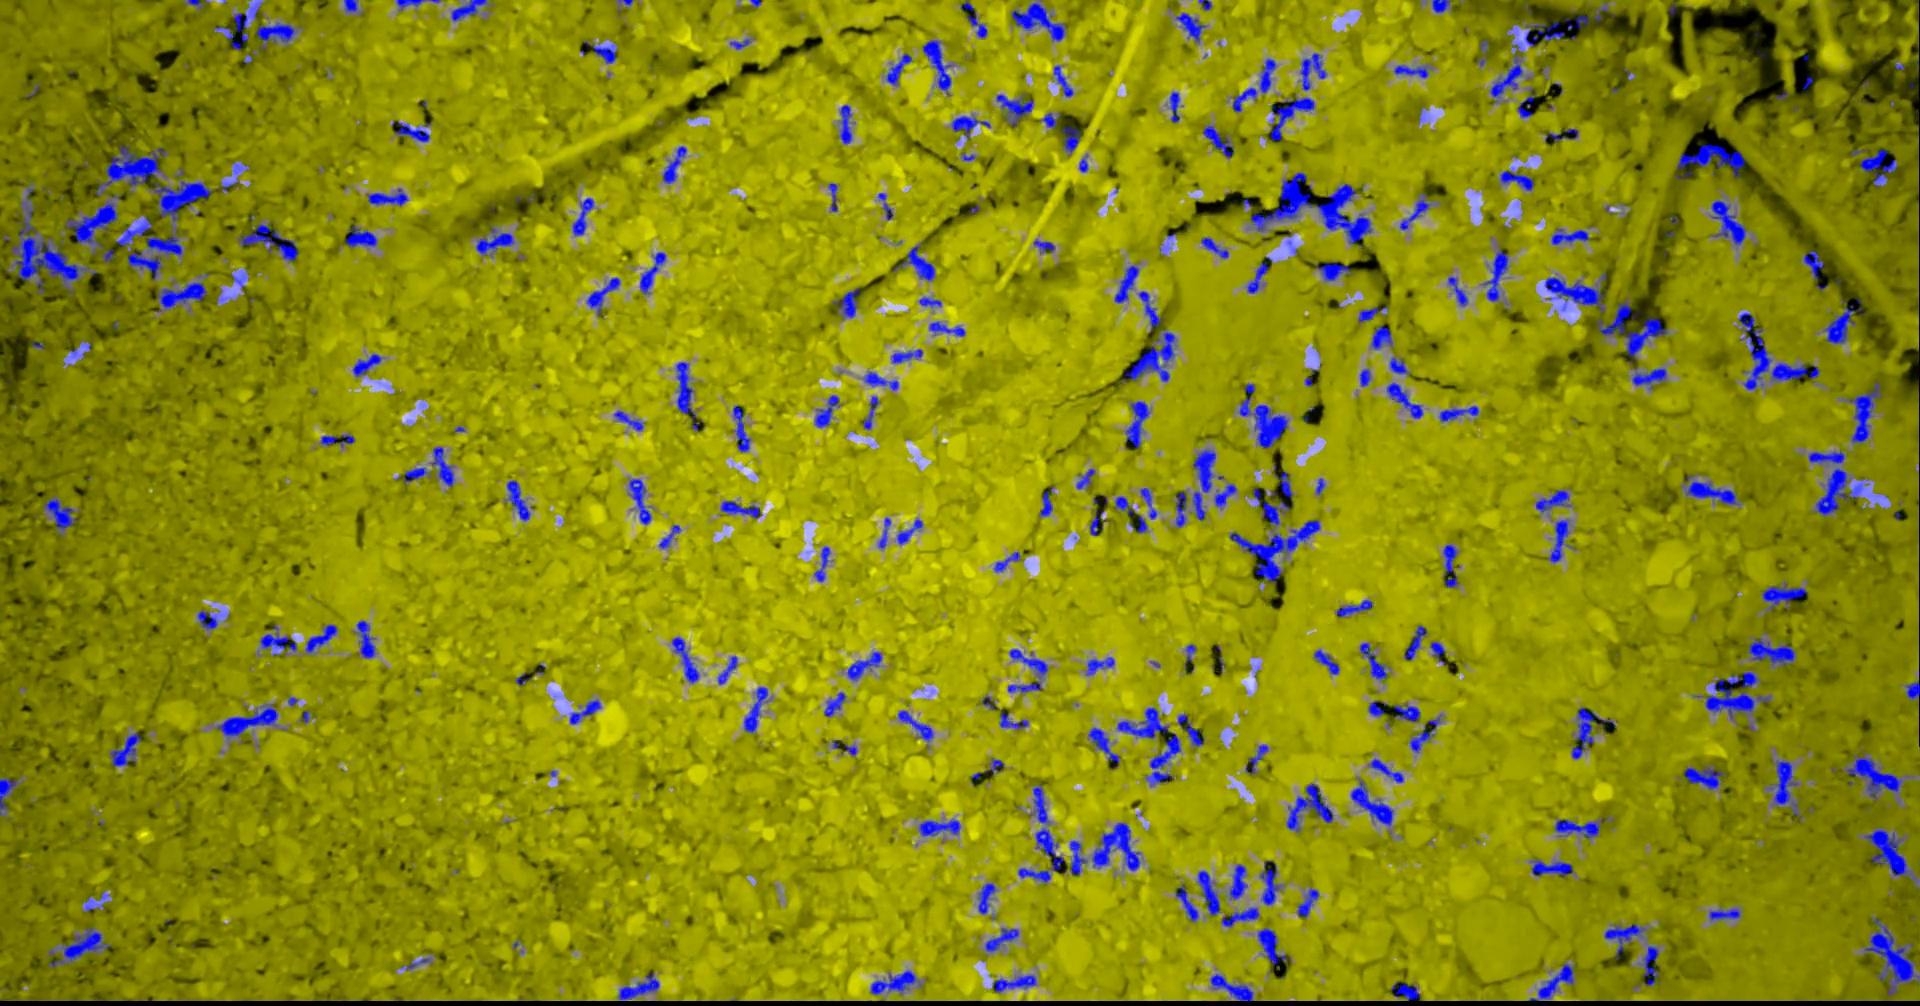ant: (1123, 329, 1177, 382), (130, 227, 184, 279), (1865, 829, 1917, 880), (1848, 754, 1903, 799), (50, 927, 112, 967), (66, 201, 119, 246), (1093, 822, 1142, 870), (1288, 782, 1335, 831), (1677, 144, 1746, 177), (1234, 58, 1277, 111), (1545, 277, 1608, 312), (1573, 708, 1617, 758), (218, 702, 279, 738), (241, 224, 300, 260), (1850, 381, 1882, 443), (1352, 780, 1396, 826), (1013, 3, 1067, 39), (677, 361, 705, 431), (1271, 97, 1316, 140), (1147, 732, 1182, 785), (1010, 648, 1049, 692), (1770, 760, 1801, 815), (1826, 298, 1864, 343), (1530, 963, 1575, 1001), (1712, 199, 1749, 245), (1685, 474, 1740, 504), (1194, 448, 1217, 520), (1492, 51, 1524, 102), (1117, 708, 1170, 738), (924, 39, 952, 91), (895, 244, 936, 279), (1606, 923, 1647, 959), (1749, 636, 1797, 666), (1862, 149, 1898, 185), (215, 11, 250, 50), (1255, 488, 1290, 525), (1258, 927, 1291, 967), (157, 282, 208, 307), (1090, 727, 1121, 767), (673, 636, 701, 682), (1388, 382, 1423, 418), (588, 277, 621, 315), (1484, 249, 1509, 301), (1763, 583, 1810, 610), (997, 94, 1034, 127), (44, 497, 77, 533), (1411, 714, 1443, 752), (1211, 973, 1255, 1001), (110, 730, 143, 766), (1037, 828, 1065, 870), (1401, 192, 1432, 229), (872, 970, 921, 995), (477, 224, 516, 254), (1567, 3, 1610, 29), (1556, 817, 1609, 838), (618, 972, 662, 998), (745, 686, 770, 733), (899, 710, 935, 741), (1128, 400, 1150, 447), (641, 251, 667, 293), (1361, 641, 1389, 680), (508, 480, 535, 520), (1204, 124, 1236, 158), (262, 624, 298, 652), (1302, 52, 1328, 90), (1199, 870, 1222, 915), (630, 478, 651, 525), (1139, 290, 1163, 332), (118, 216, 152, 245), (1261, 860, 1283, 904), (1685, 766, 1727, 789), (1526, 22, 1566, 46), (963, 0, 988, 37), (1177, 11, 1208, 42), (432, 446, 455, 486), (850, 652, 883, 680), (664, 145, 688, 183), (952, 116, 992, 138), (1248, 257, 1272, 293), (1116, 265, 1140, 302), (1178, 713, 1205, 746), (1176, 885, 1200, 921), (1549, 520, 1570, 561), (307, 624, 338, 652), (985, 927, 1020, 951), (392, 119, 430, 141), (574, 197, 596, 235), (734, 405, 752, 451), (1537, 489, 1572, 512), (1406, 625, 1429, 661), (888, 53, 913, 85), (1371, 758, 1404, 782), (258, 22, 296, 42), (836, 287, 861, 318), (571, 699, 602, 724), (1, 777, 22, 815), (1444, 544, 1462, 587), (1531, 859, 1575, 876), (994, 974, 1037, 992), (817, 395, 841, 427), (358, 620, 377, 658), (453, 0, 489, 20), (1633, 367, 1669, 387), (1034, 784, 1051, 824), (919, 819, 963, 836), (1223, 907, 1260, 926), (1501, 170, 1535, 191), (347, 225, 378, 246), (865, 371, 900, 390), (1230, 864, 1250, 899), (354, 353, 383, 376), (1299, 887, 1321, 917), (1275, 464, 1294, 498), (1070, 840, 1090, 874), (370, 188, 409, 205), (1643, 945, 1660, 984), (1316, 649, 1341, 674), (898, 520, 924, 544), (1317, 262, 1352, 279), (1247, 744, 1269, 774), (1553, 227, 1591, 244), (723, 500, 761, 517), (615, 410, 645, 431), (1055, 65, 1074, 97), (1392, 981, 1423, 1000), (1441, 405, 1481, 420), (1804, 250, 1825, 279), (1449, 276, 1469, 305), (1338, 600, 1374, 616), (979, 882, 997, 915), (1203, 238, 1230, 258), (719, 655, 739, 683), (930, 321, 966, 337), (863, 396, 880, 429), (996, 551, 1022, 572), (1063, 124, 1082, 152), (1142, 486, 1158, 518), (1373, 325, 1394, 349), (825, 692, 847, 716), (1519, 88, 1537, 117), (1018, 868, 1051, 883), (841, 104, 853, 144), (1088, 657, 1116, 674), (1217, 483, 1238, 506), (660, 525, 682, 547), (594, 43, 618, 64), (893, 348, 924, 363), (1396, 64, 1430, 77), (817, 546, 830, 580), (1396, 704, 1422, 721), (397, 467, 428, 483), (397, 0, 442, 10), (1360, 306, 1389, 321), (1001, 713, 1030, 728), (879, 192, 895, 218), (1545, 128, 1578, 141), (323, 434, 356, 447), (1041, 486, 1055, 516), (1177, 492, 1189, 527), (879, 517, 891, 547), (1431, 641, 1448, 664), (834, 739, 858, 754), (199, 610, 218, 629), (1710, 908, 1742, 920), (1078, 467, 1096, 488), (1091, 509, 1105, 535), (1116, 495, 1134, 514), (985, 757, 1004, 775), (1390, 357, 1411, 373), (1370, 700, 1389, 716), (1171, 91, 1181, 122), (1035, 238, 1057, 251), (829, 183, 839, 211), (1186, 644, 1197, 668), (1044, 112, 1062, 127), (1907, 680, 1920, 699), (731, 38, 752, 50), (1432, 0, 1451, 11), (919, 297, 943, 306), (1138, 514, 1149, 532), (1361, 368, 1371, 386), (103, 248, 116, 262), (517, 673, 532, 685), (345, 0, 359, 11), (189, 0, 210, 8), (1200, 0, 1213, 10)
